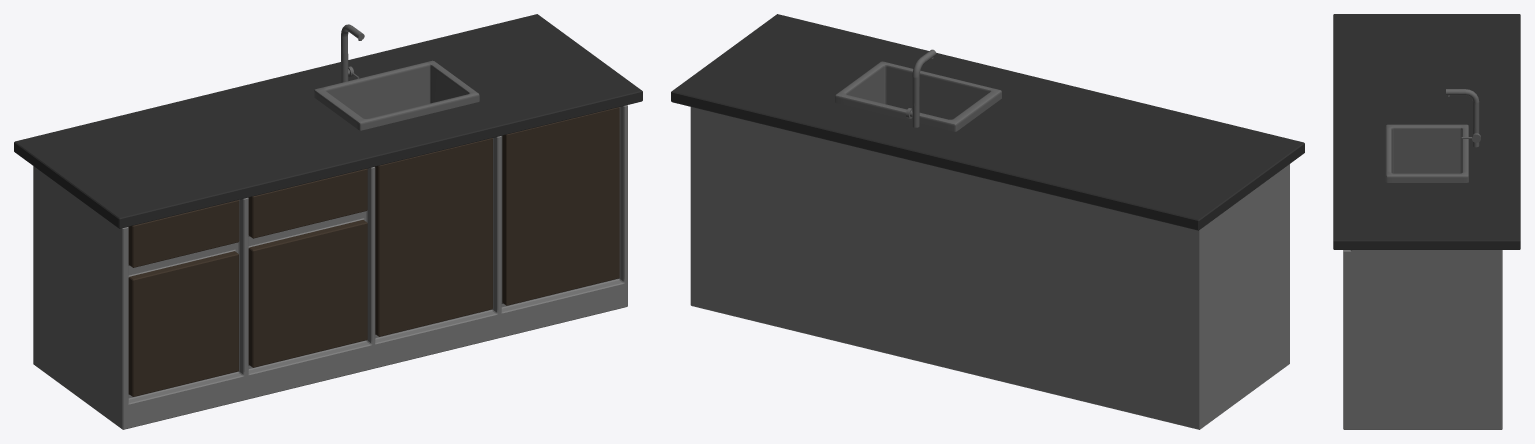
Rendered from TearoomCounter_Sink.fbx.
3 renders of one model, left to right at view 1: azimuth 30°, elevation 25°; view 2: azimuth 150°, elevation 25°; view 3: azimuth 270°, elevation 25°, orthographic. The views are drawn at different scales.
Visible parts, largest first — view 1: pCylinder7; view 2: pCylinder7; view 3: pCylinder7.
Boxes of the visible parts, x1,y1,x2,y2 form: pCylinder7: (14,14,642,429); pCylinder7: (671,14,1304,429); pCylinder7: (1333,14,1520,429).
Bounding box in the file's own units: 25.06 × 12.89 × 8.74.
